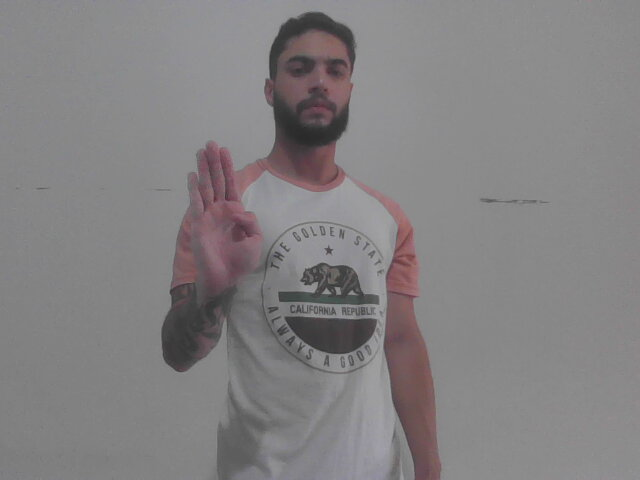b: (184, 136, 262, 292)
